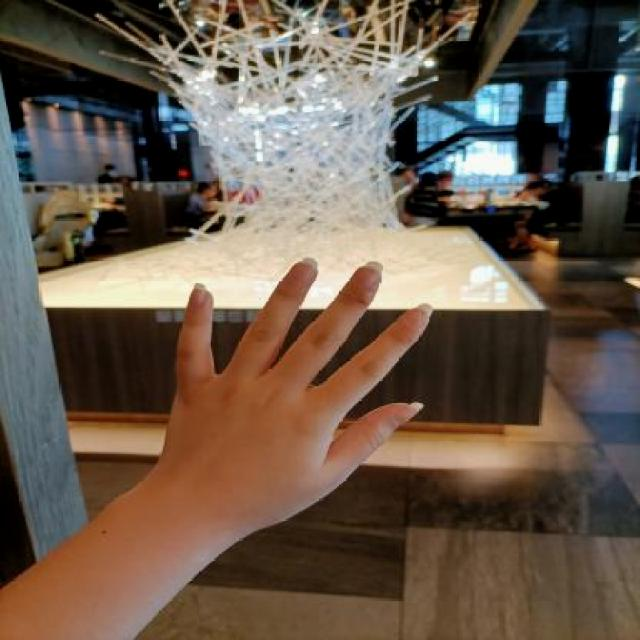no_glove: (144, 244, 444, 547)
